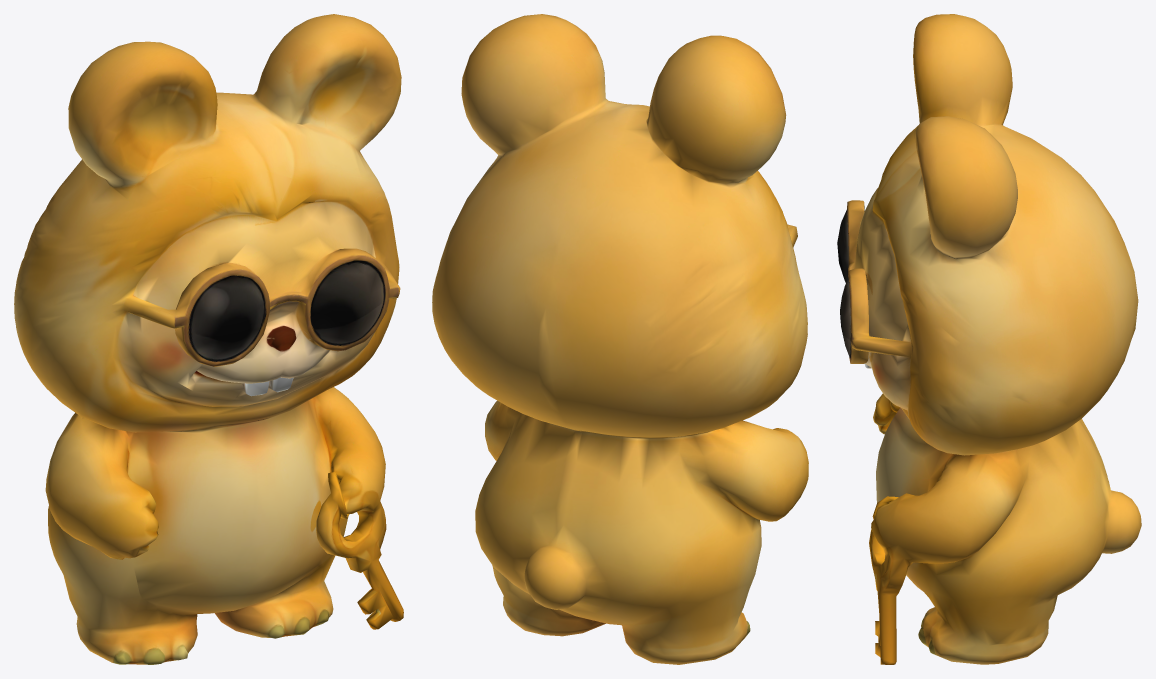
Rendered from 金牙LADUDU史诗.fbx.
3 views of the same model, side by side, from view 1: azimuth 30°, elevation 25°; view 2: azimuth 150°, elevation 25°; view 3: azimuth 270°, elevation 25° (orthographic). The views are drawn at different scales.
Visible parts, largest first — view 1: tripo_node_69cca46e; view 2: tripo_node_69cca46e; view 3: tripo_node_69cca46e.
Boxes of the visible parts, bbox=[...] form: tripo_node_69cca46e: bbox=[14, 14, 403, 664]; tripo_node_69cca46e: bbox=[432, 14, 808, 664]; tripo_node_69cca46e: bbox=[837, 14, 1141, 664].
Size of the model in its own units: 0.6011 by 1 by 0.4921.
1 material, 1 textured.
